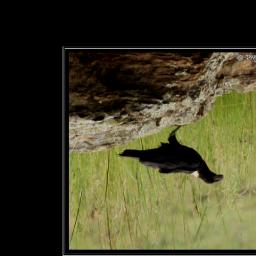Crow: (118, 124, 225, 185)
